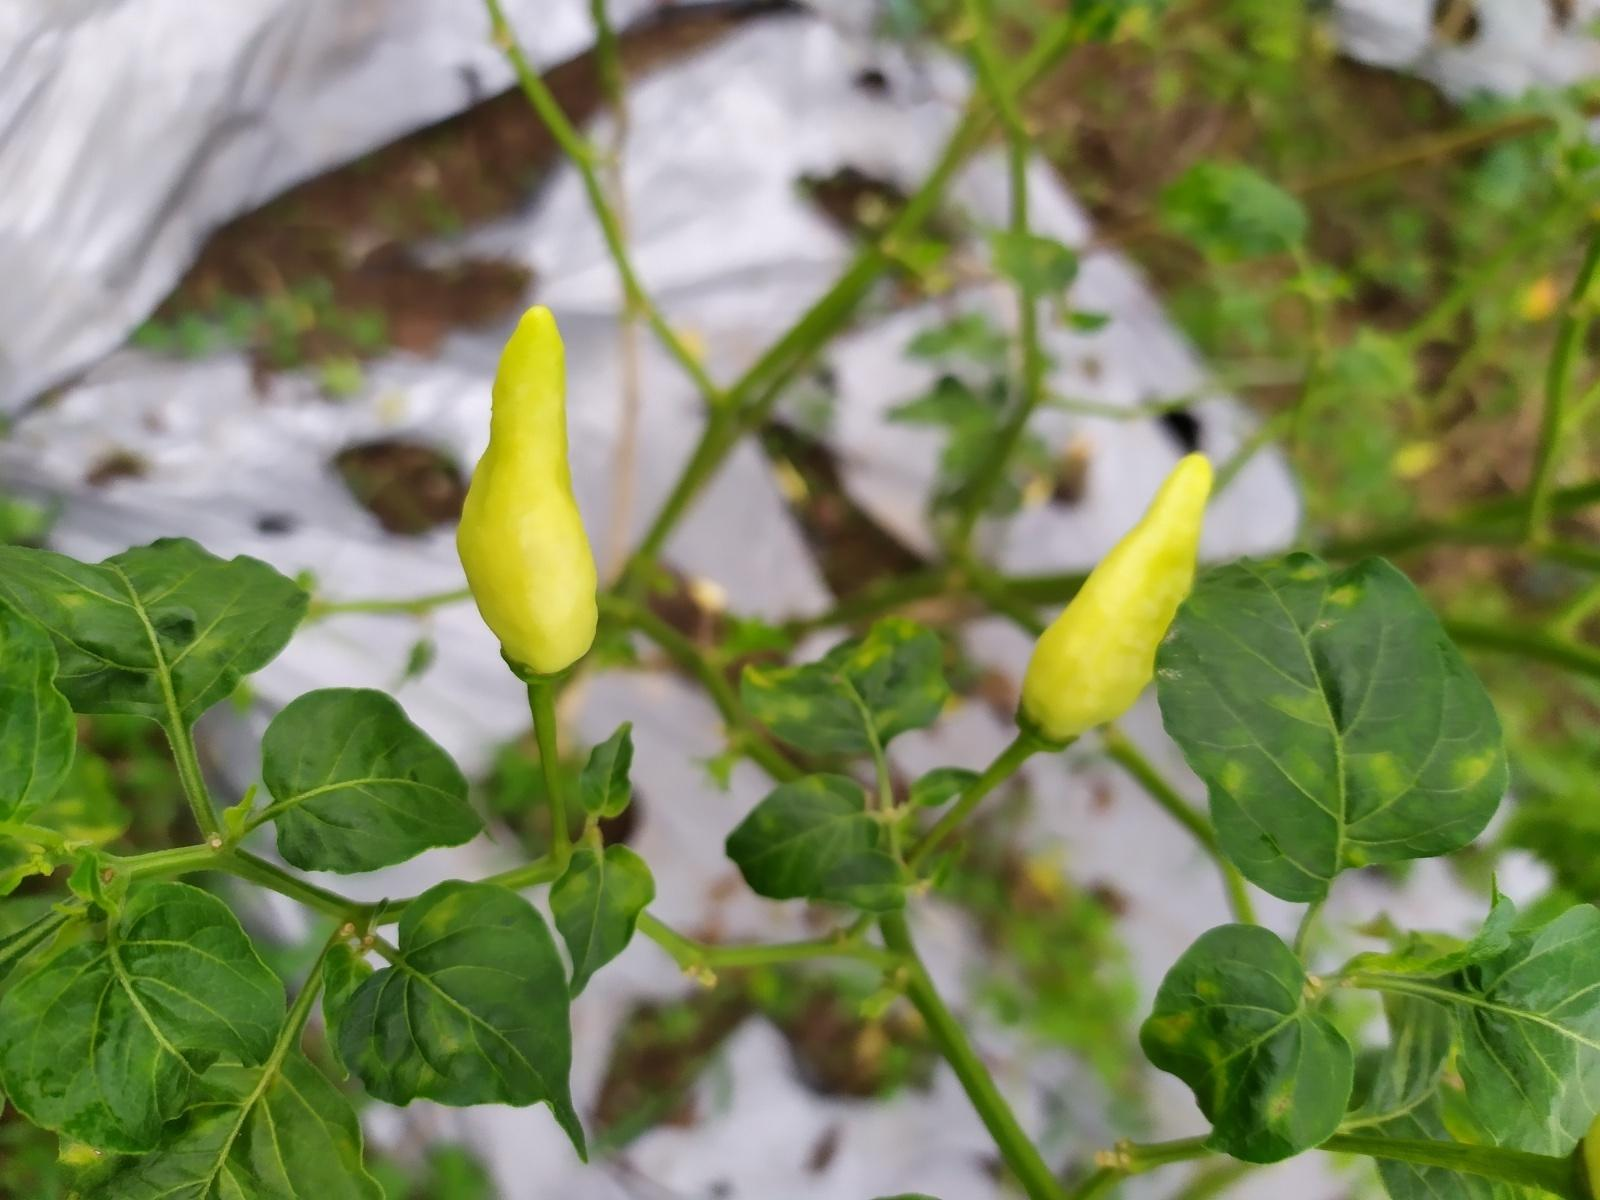cabai_normal: (1018, 450, 1214, 749), (454, 306, 598, 678)
